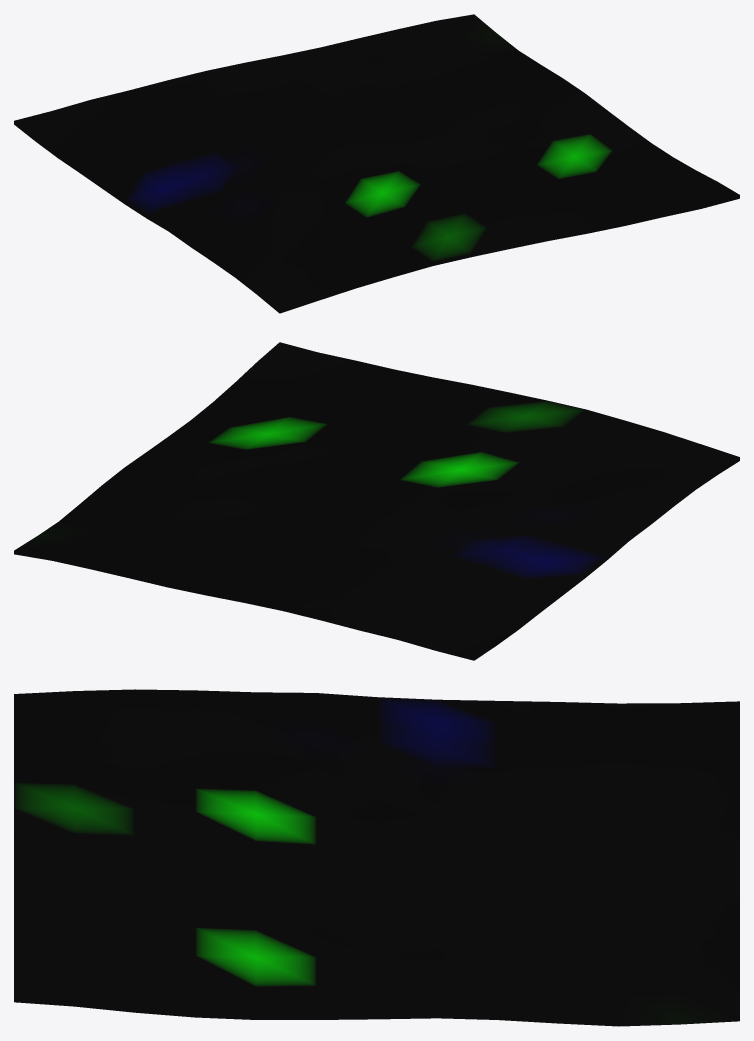
Rendered from coast_16_0.glb.
3 views of the same model, one above another, from view 1: azimuth 30°, elevation 25°; view 2: azimuth 150°, elevation 25°; view 3: azimuth 270°, elevation 25° (orthographic). The views are drawn at different scales.
Parts seen in each view (by area): view 1: terrain; view 2: terrain; view 3: terrain.
Part boxes in pixels (x1,y1,x2,y2): terrain: [14, 14, 739, 313]; terrain: [14, 342, 739, 660]; terrain: [14, 689, 739, 1026].
Bounding box in the file's own units: 192 × 11.57 × 192.
